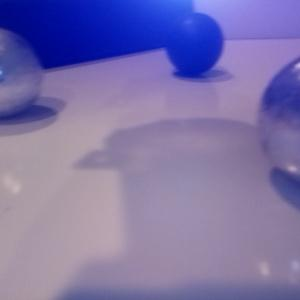alive_ball: (259, 57, 300, 182), (1, 27, 43, 118)
dead_ball: (166, 13, 224, 74)
